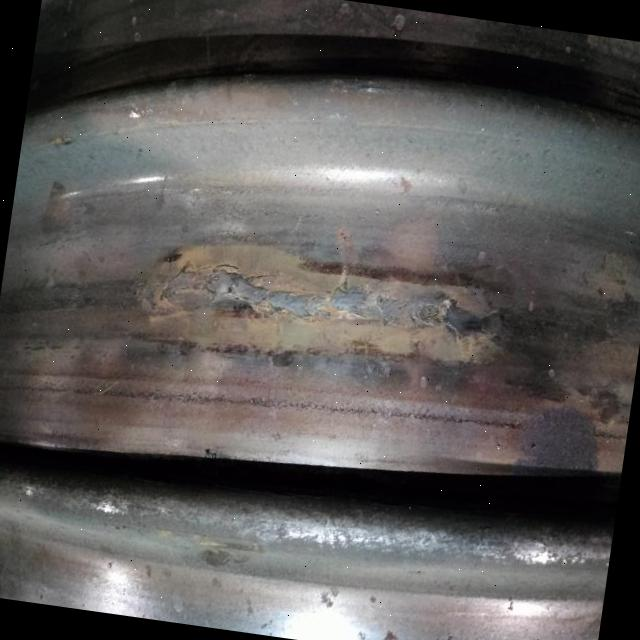Rollerpile: (142, 247, 508, 372)
